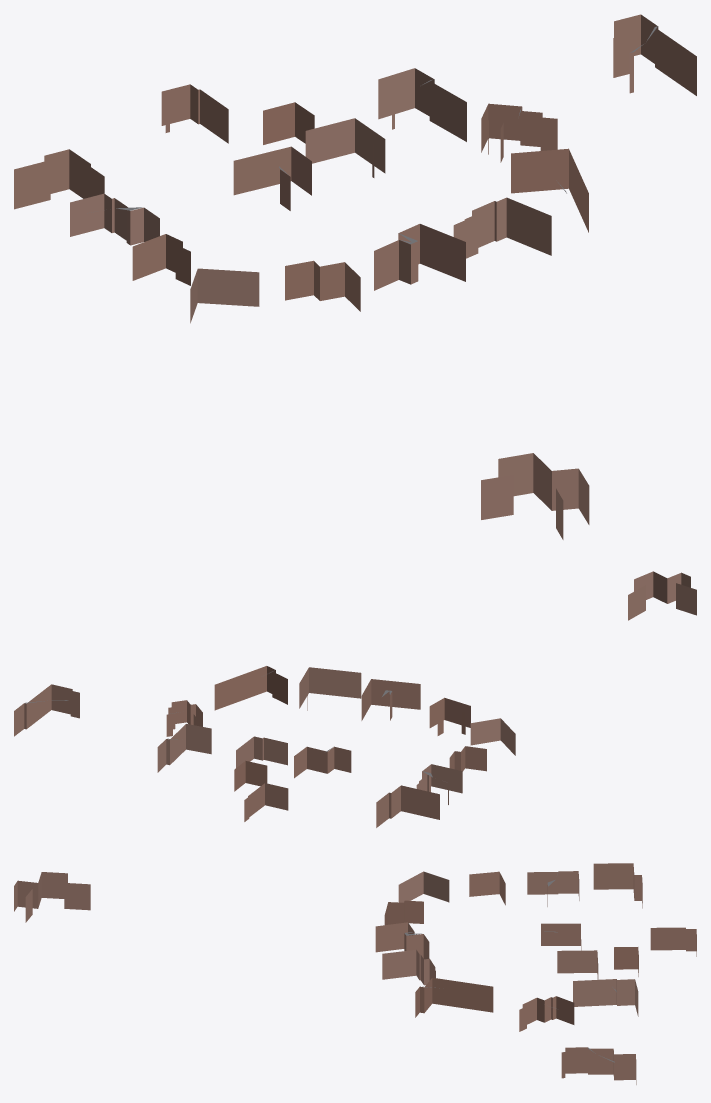
Rendered from c_1644_17831_buildings_residential.glb.
The picture shows the model from 3 angles, top to bottom: view 1: azimuth 30°, elevation 25°; view 2: azimuth 150°, elevation 25°; view 3: azimuth 270°, elevation 25°; orthographic projection. The views are drawn at different scales.
Visible parts, largest first — view 1: geometry_0; view 2: geometry_0; view 3: geometry_0.
Part boxes in pixels (<box>): geometry_0: <box>14,14,696,539</box>; geometry_0: <box>14,571,696,827</box>; geometry_0: <box>14,863,696,1084</box>.
Bounding box in the file's own units: 181 × 11.08 × 262.
